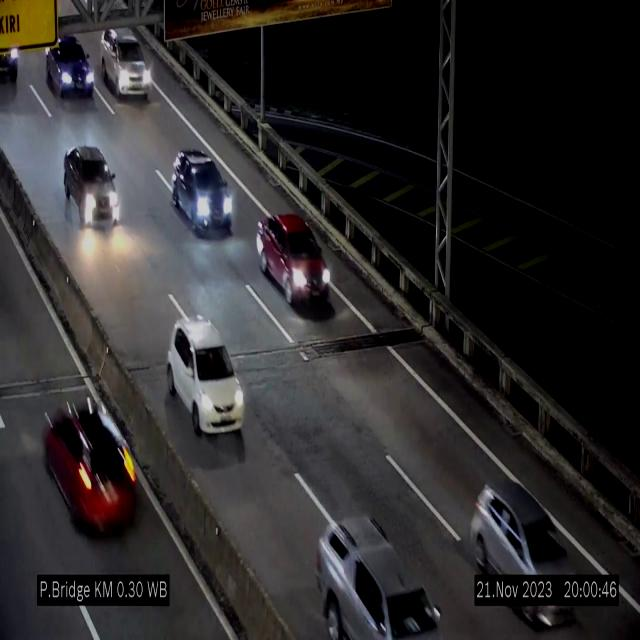Car: (466, 463, 584, 633), (313, 499, 450, 640), (44, 373, 140, 538), (167, 318, 244, 435), (256, 214, 334, 310), (171, 148, 234, 234), (62, 141, 120, 234), (101, 28, 152, 99), (46, 32, 98, 101)
